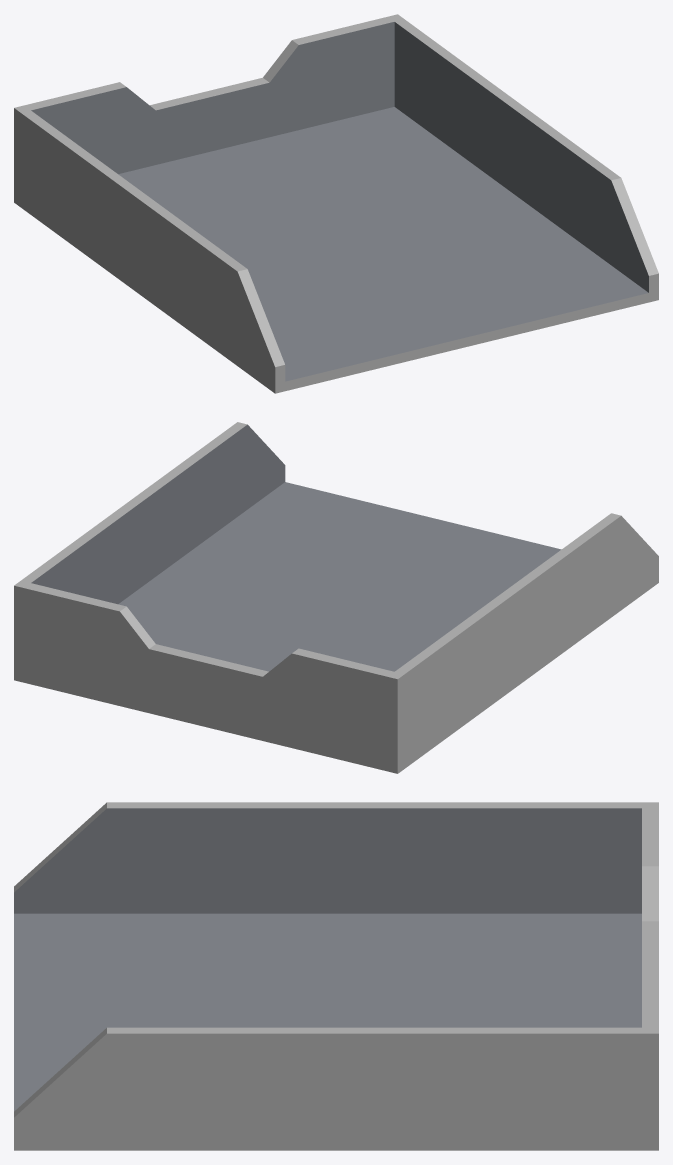
Rendered from Document_Tray_Grey.fbx.
The picture shows the model from 3 angles, top to bottom: view 1: azimuth 30°, elevation 25°; view 2: azimuth 150°, elevation 25°; view 3: azimuth 270°, elevation 25°; orthographic projection. The views are drawn at different scales.
Visible parts, largest first — view 1: File_Paper_Tray.001; view 2: File_Paper_Tray.001; view 3: File_Paper_Tray.001.
Part boxes in pixels (bbox=[...]): File_Paper_Tray.001: bbox=[14, 14, 658, 393]; File_Paper_Tray.001: bbox=[14, 422, 658, 773]; File_Paper_Tray.001: bbox=[14, 802, 658, 1150].
Bounding box in the file's own units: 28 × 6.6 × 33.
